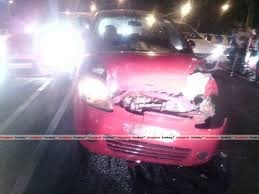Broken-glass: (107, 86, 227, 150), (186, 73, 211, 99)
